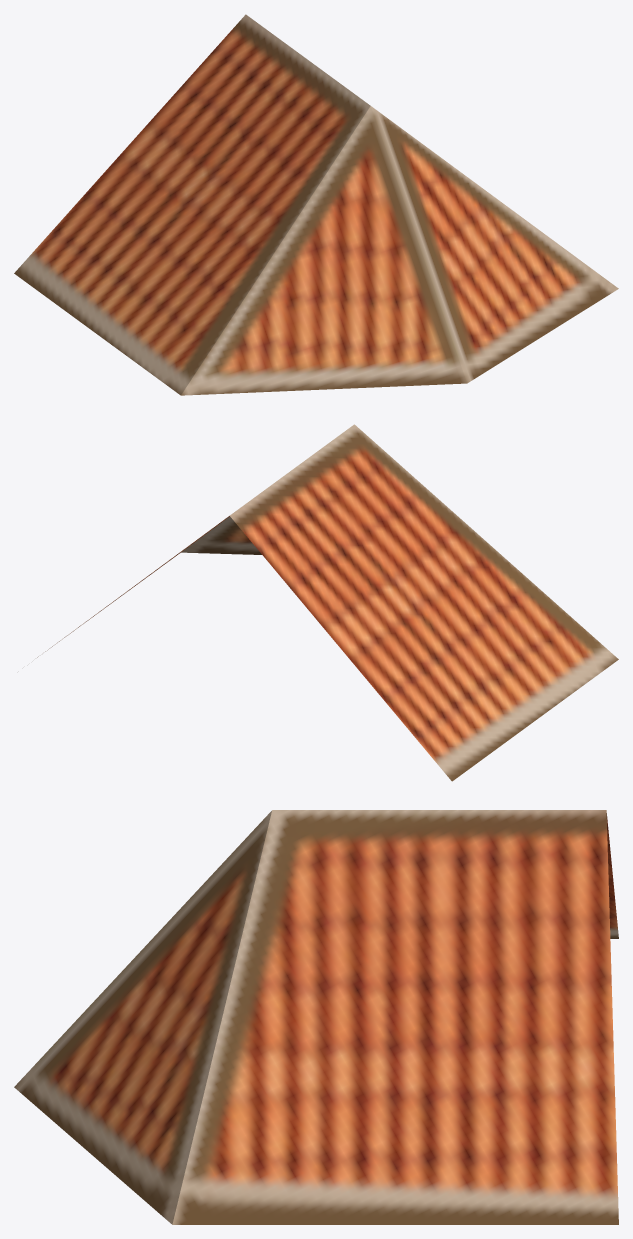
The model's file is DuoiNgoaiCungTrai.glb.
3 renders of one model, top to bottom at view 1: azimuth 30°, elevation 25°; view 2: azimuth 150°, elevation 25°; view 3: azimuth 270°, elevation 25°, orthographic. The views are drawn at different scales.
Parts seen in each view (by area): view 1: Object_4.006; view 2: Object_4.006; view 3: Object_4.006.
Boxes of the visible parts, x1,y1,x2,y2 form: Object_4.006: (14, 14, 618, 395); Object_4.006: (37, 424, 618, 781); Object_4.006: (14, 810, 618, 1224).
Bounding box in the file's own units: 0.3003 × 0.1357 × 0.2684.
Materials: 1 (1 with a texture image).
